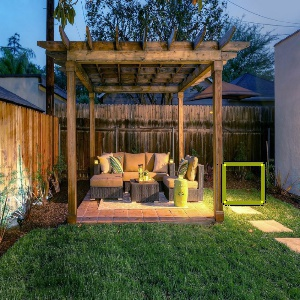square: (218, 160, 268, 208)
